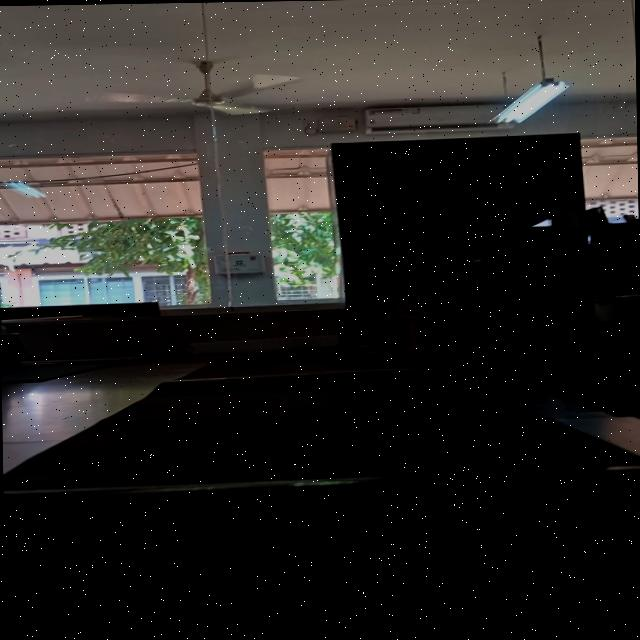Speed40: (390, 298, 432, 322)
